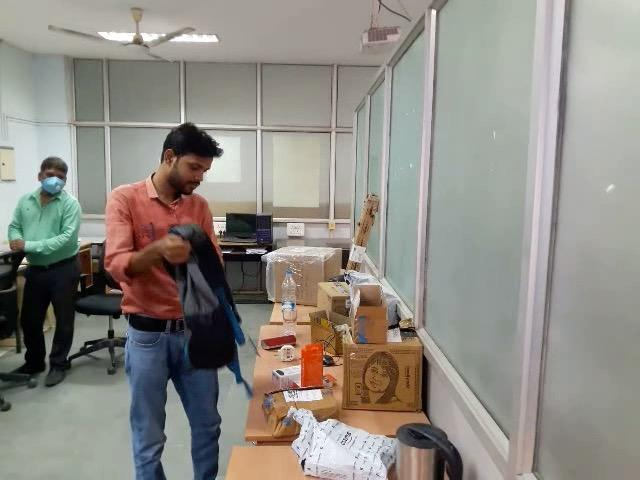shoplifting: (56, 210, 341, 408)
